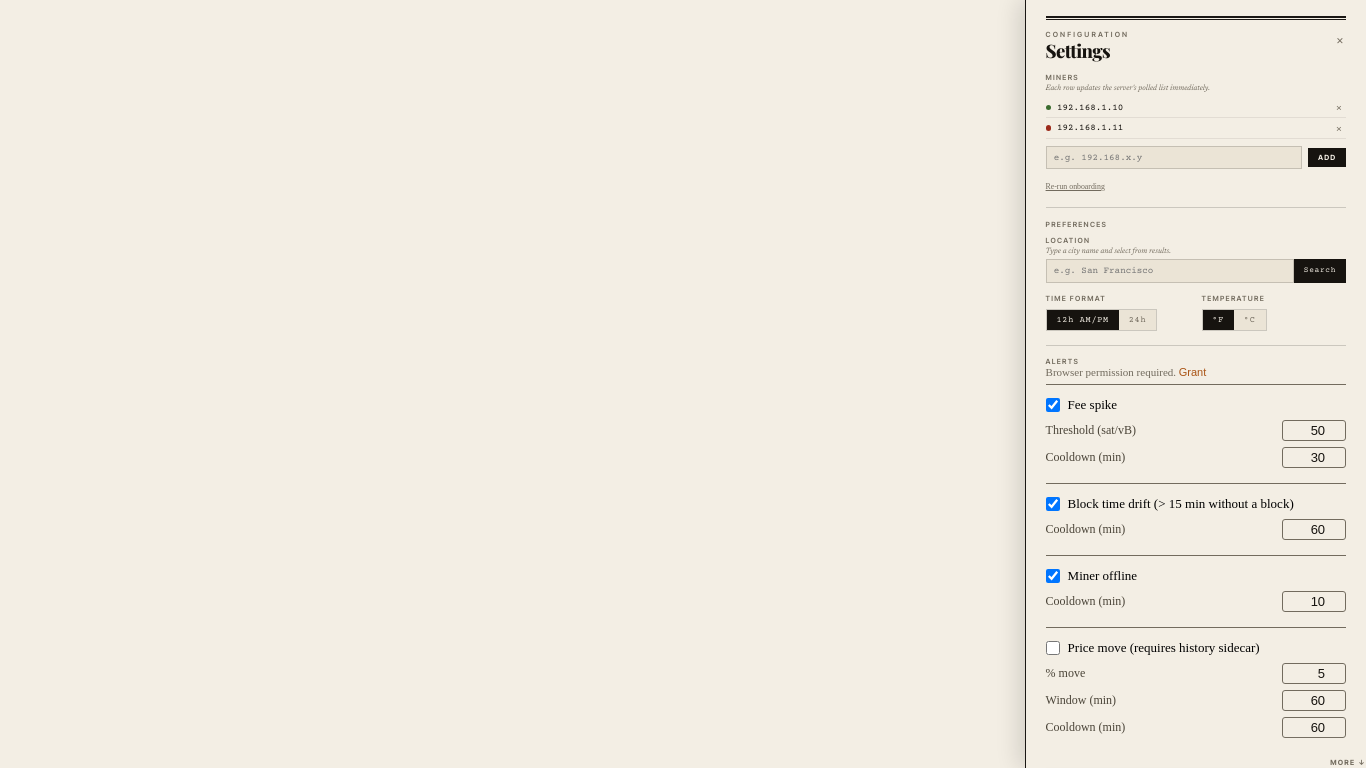
Test: SettingsPanel — Miners (row-based) › rejects an invalid IP locally (does not POST)
Type "8.8.8.8" into the field named "Add miner IP" at x=1174, y=158, box [1046,146,1302,169]
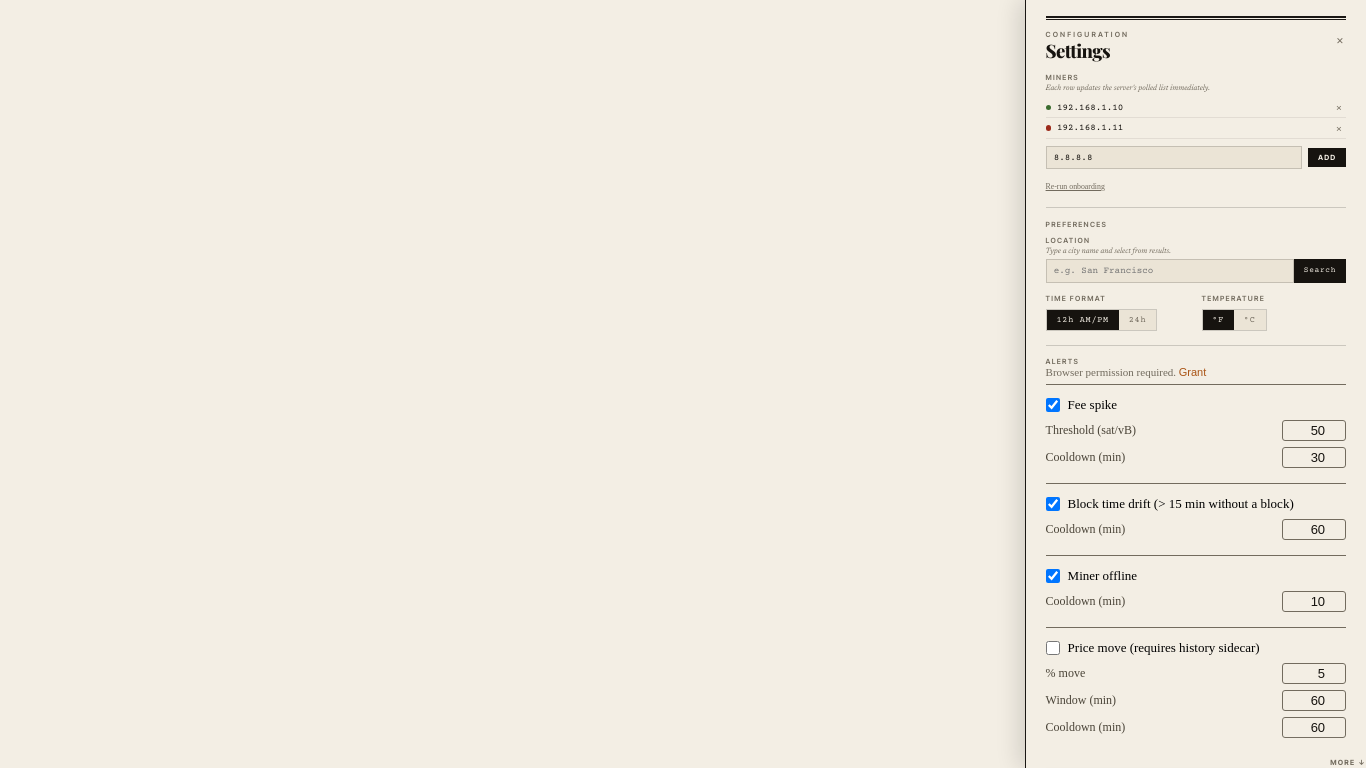
Click the button "Add" at x=1327, y=158, box [1308,148,1346,167]
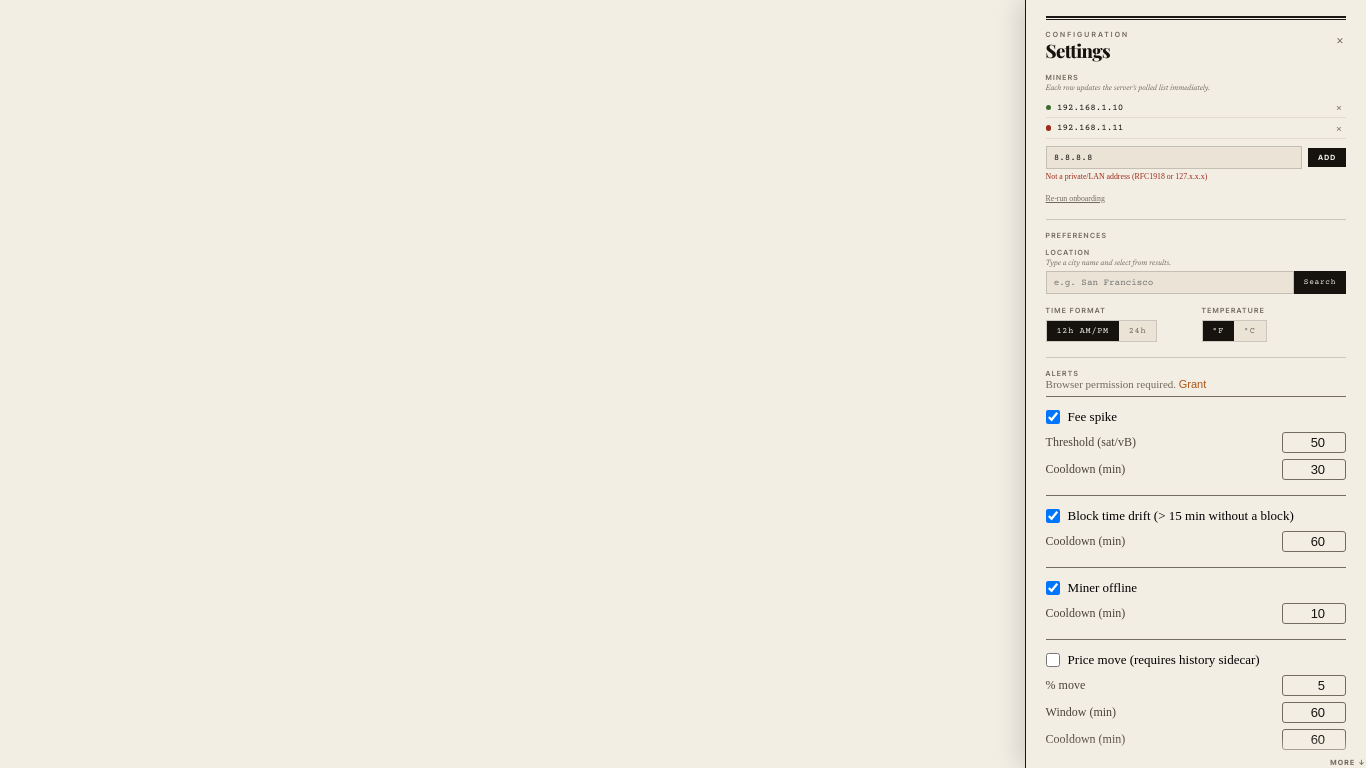
Result: the text "Not a private/LAN address (RFC1918 or 127.x.x.x)" is shown at [1046,172,1207,181]
